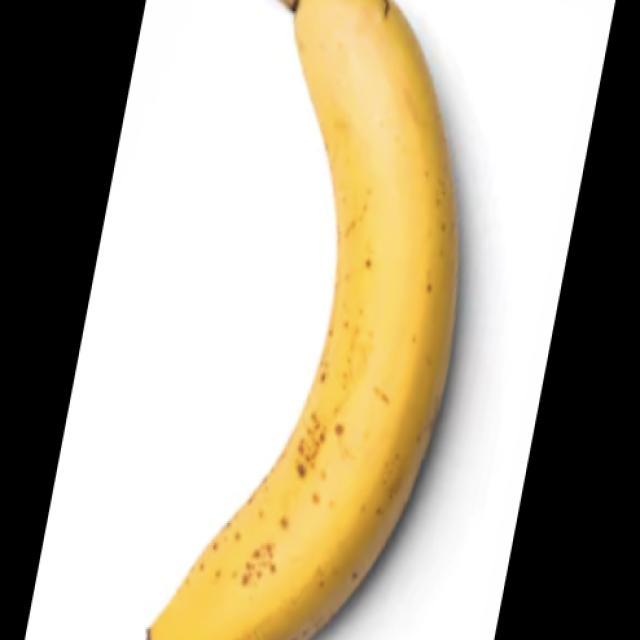Banana: (142, 0, 460, 639)
